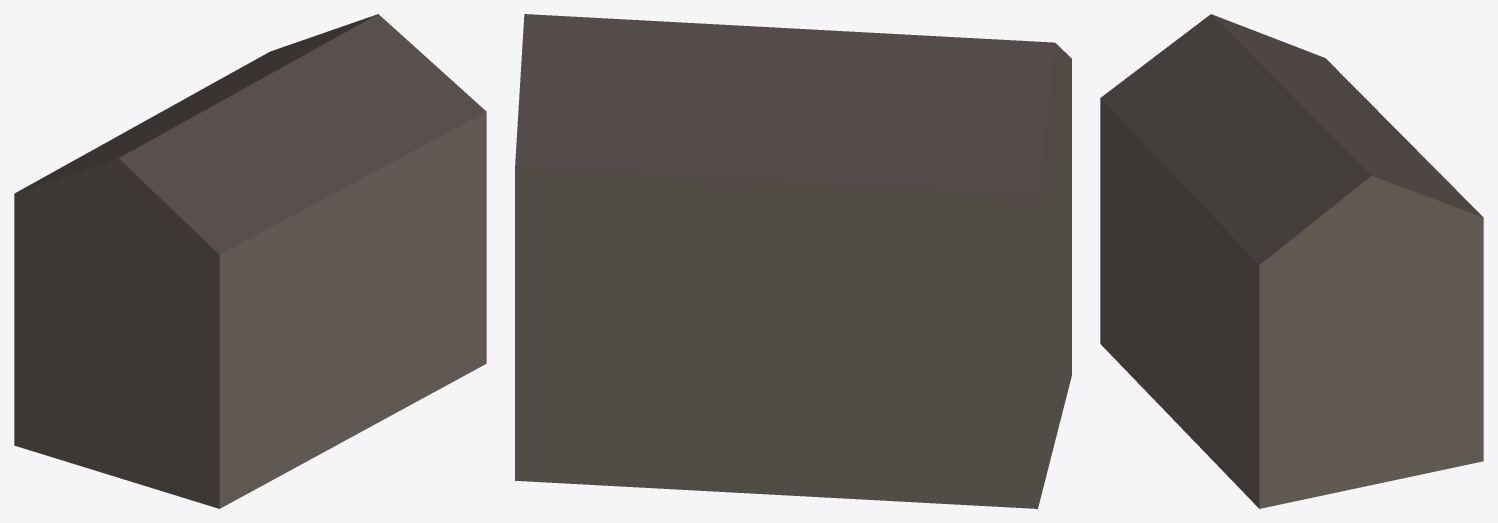
3 views of the same model, side by side, from view 1: azimuth 30°, elevation 25°; view 2: azimuth 150°, elevation 25°; view 3: azimuth 270°, elevation 25° (orthographic). The views are drawn at different scales.
Visible parts, largest first — view 1: HP-w776801023; view 2: HP-w776801023; view 3: HP-w776801023.
Boxes of the visible parts, left/top/right/bottom form: HP-w776801023: left=14, top=14, right=486, bottom=508; HP-w776801023: left=515, top=14, right=1071, bottom=508; HP-w776801023: left=1100, top=14, right=1483, bottom=508.
Size of the model in its own units: 10.93 by 7.61 by 8.55.
